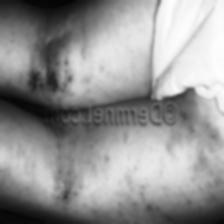Non-Cancerous Skin Condition: (160, 128, 224, 189), (17, 56, 90, 98), (32, 154, 88, 206)
